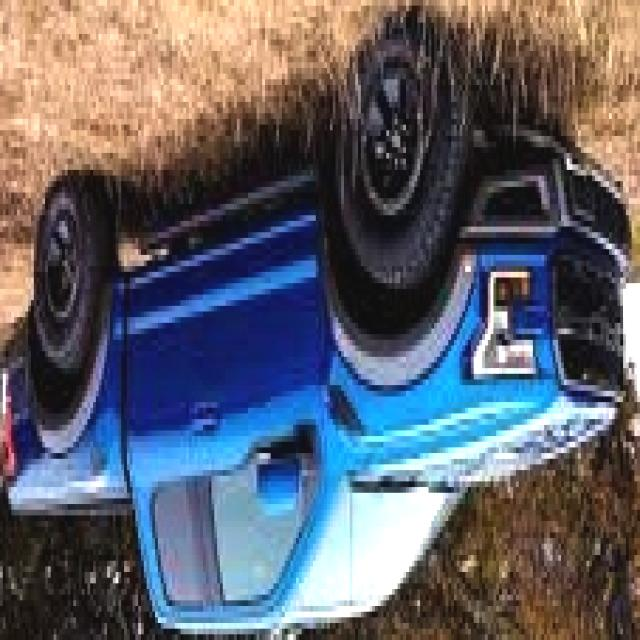blue: (8, 129, 640, 633)
